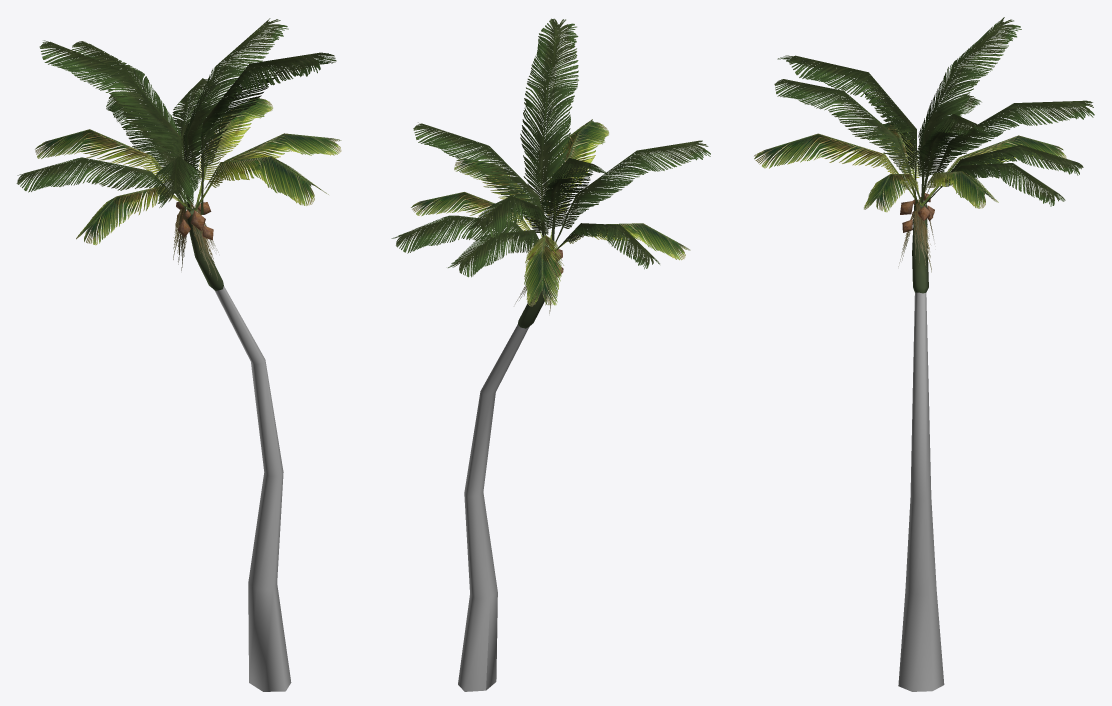
The model's file is kin_2s_LOD1.fbx.
3 renders of one model, left to right at view 1: azimuth 30°, elevation 25°; view 2: azimuth 150°, elevation 25°; view 3: azimuth 270°, elevation 25°, orthographic. The views are drawn at different scales.
Visible parts, largest first — view 1: kin_LOD1; view 2: kin_LOD1; view 3: kin_LOD1.
Part boxes in pixels (bbox=[...]): kin_LOD1: bbox=[16, 18, 341, 691]; kin_LOD1: bbox=[391, 18, 710, 691]; kin_LOD1: bbox=[754, 17, 1094, 691].
Bounding box in the file's own units: 2212 × 5127 × 2614.
